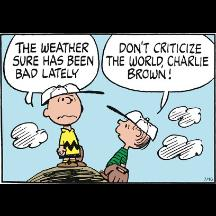charlie: (41, 83, 87, 167)
